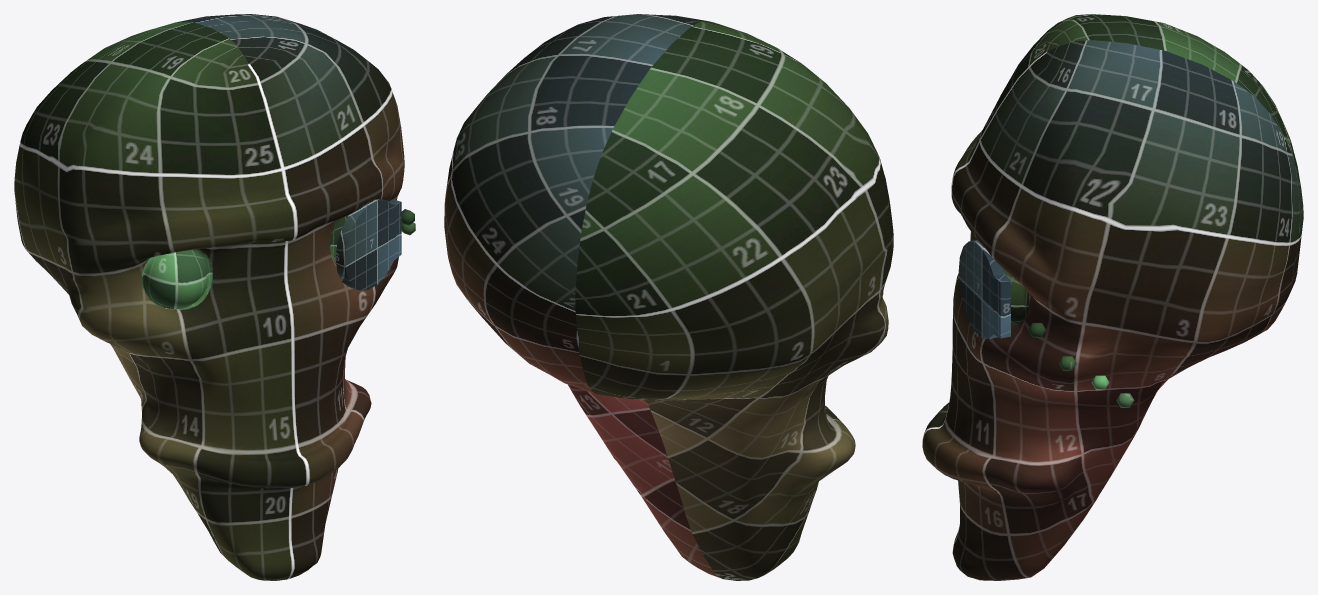
The model's file is head myson.FBX.
The picture shows the model from 3 angles, left to right: view 1: azimuth 30°, elevation 25°; view 2: azimuth 150°, elevation 25°; view 3: azimuth 270°, elevation 25°; orthographic projection. The views are drawn at different scales.
Visible parts, largest first — view 1: Cabeza; view 2: Cabeza; view 3: Cabeza.
Boxes of the visible parts, left/top/right/bottom form: Cabeza: left=14, top=14, right=415, bottom=580; Cabeza: left=444, top=14, right=893, bottom=580; Cabeza: left=922, top=14, right=1303, bottom=580.
Size of the model in its own units: 24.45 by 34.43 by 22.3.
